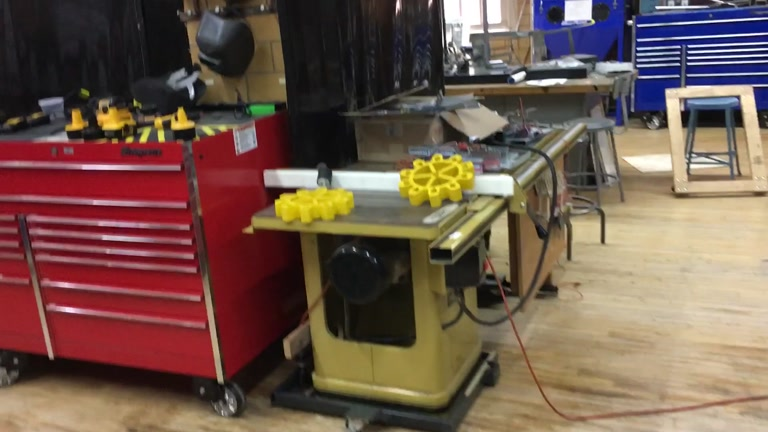gear: (398, 151, 474, 207), (274, 185, 354, 224)
